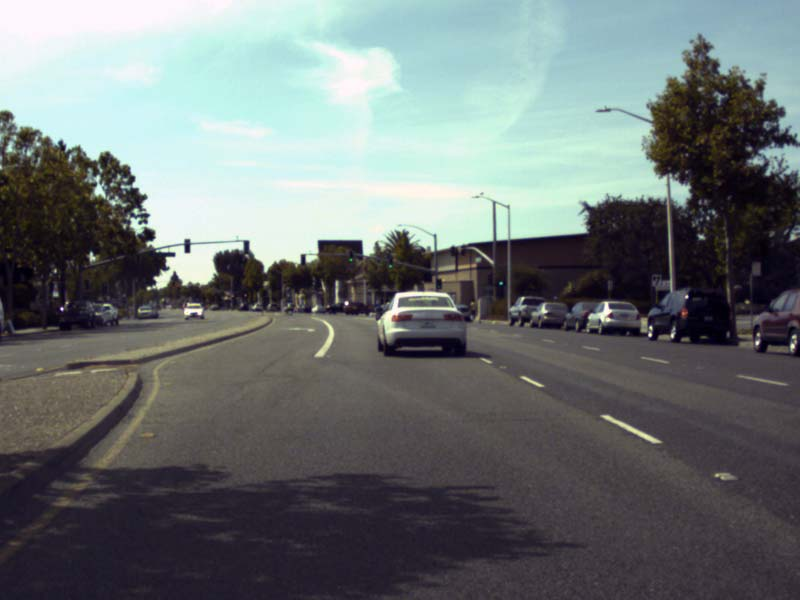Green: (496, 278, 503, 296), (348, 251, 353, 261), (436, 279, 441, 288), (388, 259, 392, 268)
